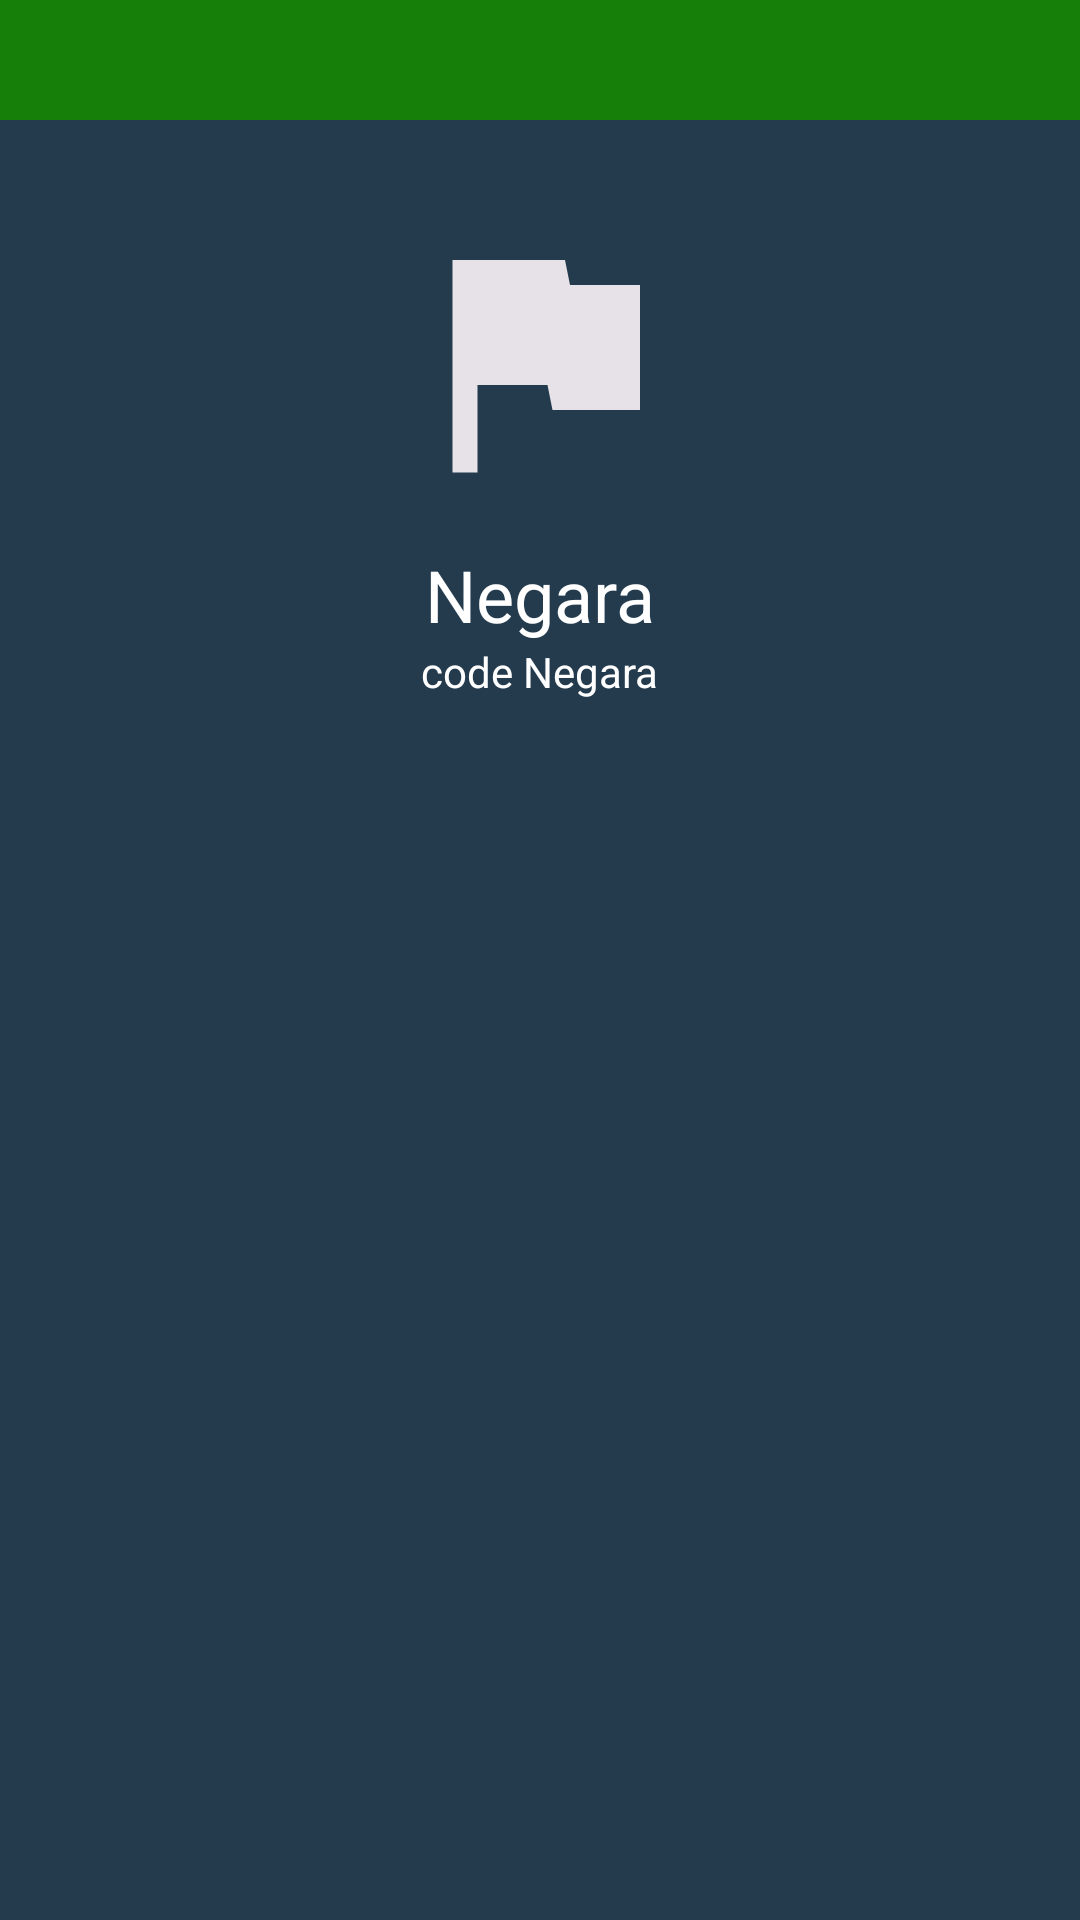

Icon bounding boxes for this 1080w x 1920h phone screenshot, format (x1, y1, x2, y2):
flag: (452, 260, 640, 473)
